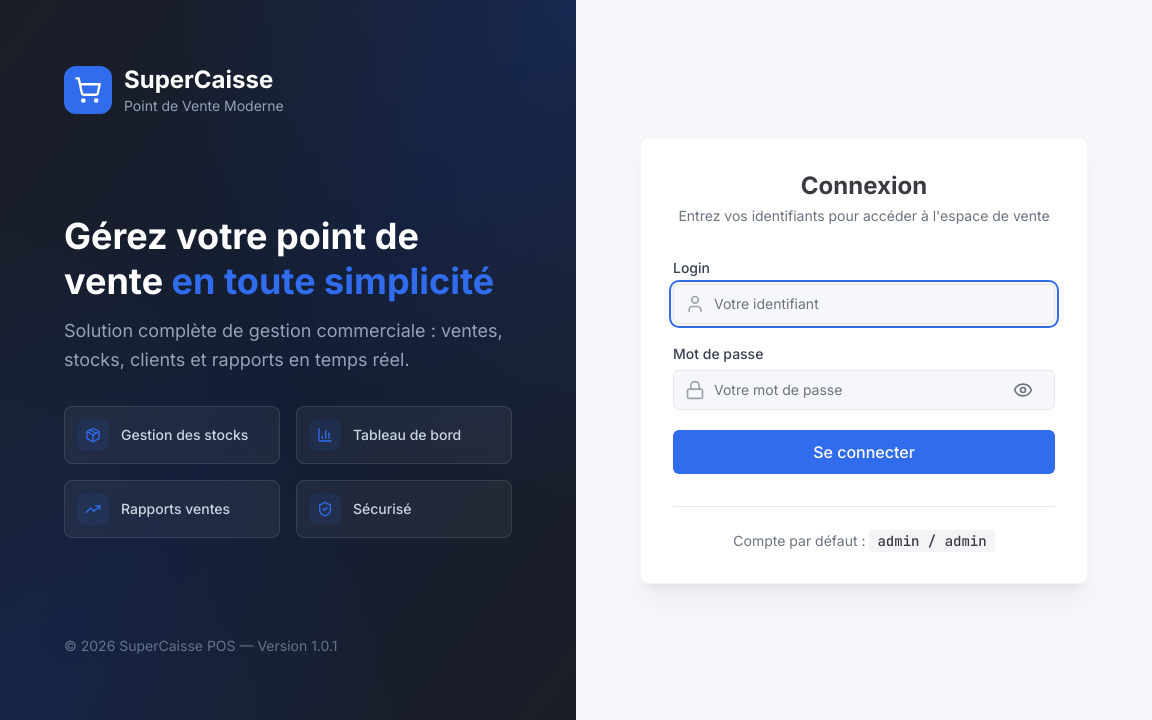
Login › shows validation errors on empty submit
The image size is (1152, 720).
Click the button "Se connecter". click: point(864, 452)
box: [673, 430, 1055, 474]
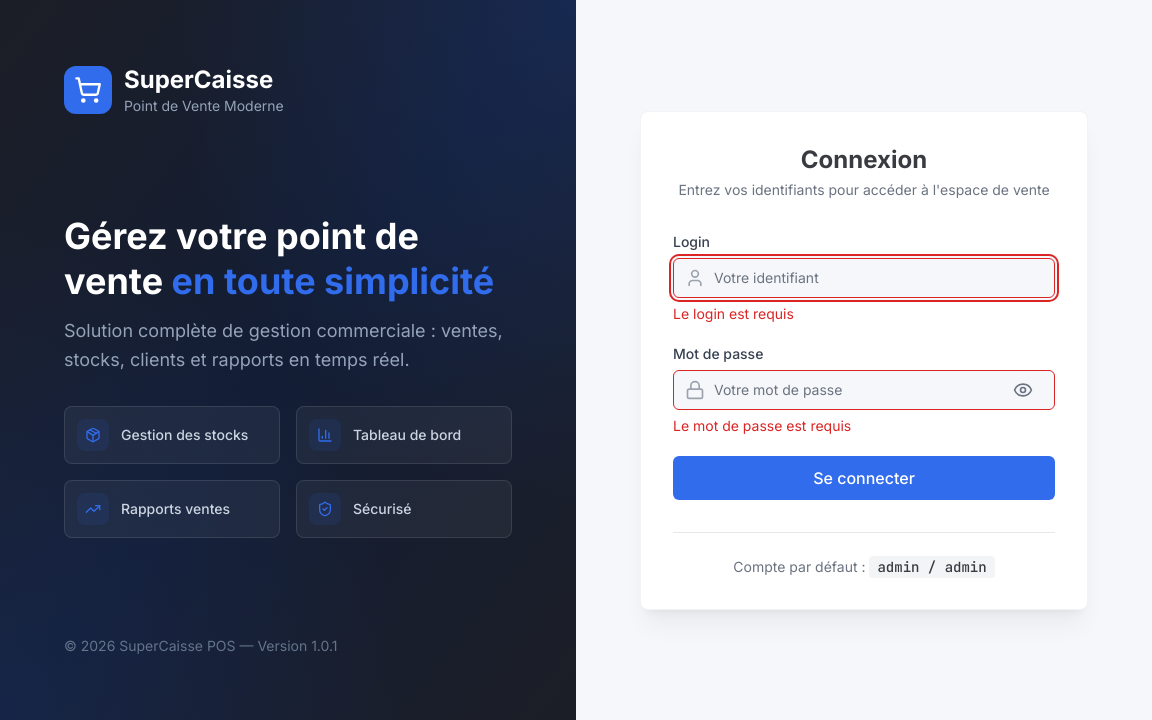
Expected: the text "Le login est requis" is shown, [673, 304, 794, 322]
Expected: the text "Le mot de passe est requis" is shown, [673, 416, 851, 434]
